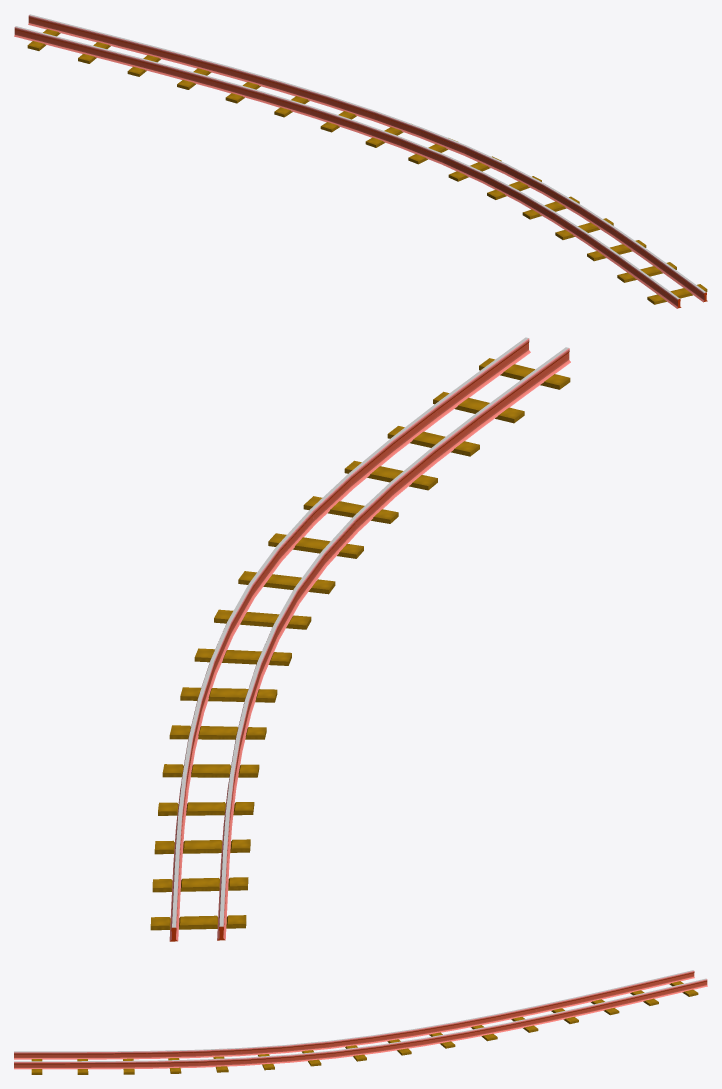
Rendered from Curve Rails Original.FBX.
The picture shows the model from 3 angles, top to bottom: view 1: azimuth 30°, elevation 25°; view 2: azimuth 150°, elevation 25°; view 3: azimuth 270°, elevation 25°; orthographic projection. The views are drawn at different scales.
Parts seen in each view (by area): view 1: Rail right, Rail left, Sleepers; view 2: Sleepers, Rail right, Rail left; view 3: Rail right, Rail left, Sleepers.
Boxes of the visible parts, x1,y1,x2,y2 form: Rail right: [28, 14, 707, 302]; Rail left: [14, 26, 681, 308]; Sleepers: [27, 29, 707, 304]; Sleepers: [150, 358, 570, 930]; Rail right: [169, 337, 530, 941]; Rail left: [217, 347, 570, 940]; Rail right: [14, 978, 707, 1069]; Rail left: [14, 970, 694, 1059]; Sleepers: [31, 981, 698, 1074].
Size of the model in its own units: 558 by 22.45 by 1687.
